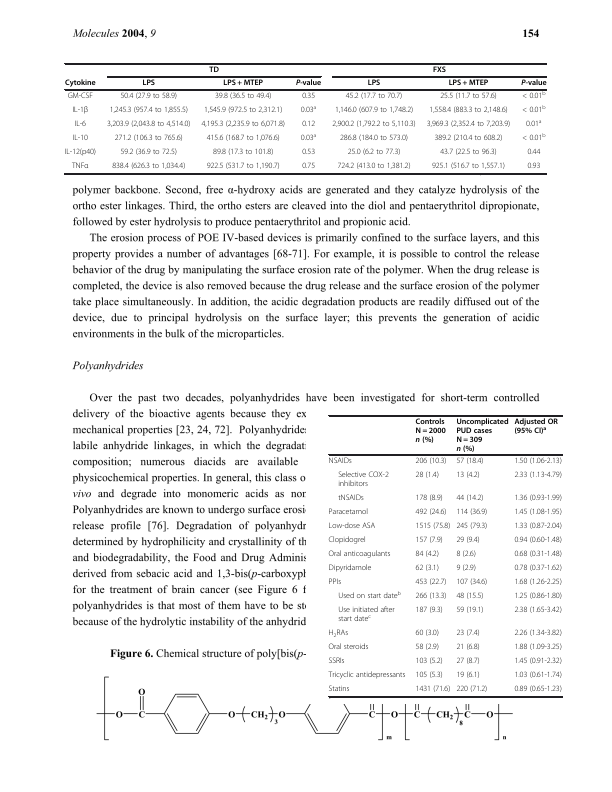borderless: (327, 414, 562, 696), (63, 62, 546, 173)
cell: (455, 418, 509, 454), (337, 606, 396, 625), (337, 471, 390, 490), (414, 418, 447, 445), (200, 120, 286, 130), (331, 120, 417, 130), (106, 120, 191, 130), (426, 120, 511, 130), (513, 418, 559, 436), (109, 106, 189, 116), (203, 106, 283, 116), (334, 106, 414, 116), (428, 106, 508, 116), (337, 590, 402, 602), (328, 671, 406, 681), (206, 134, 281, 144), (111, 162, 186, 172), (206, 162, 281, 172), (336, 162, 411, 172), (431, 162, 506, 172), (114, 134, 184, 144), (339, 134, 409, 144), (433, 134, 503, 144), (328, 550, 391, 560), (212, 148, 274, 158), (119, 92, 178, 102), (439, 92, 498, 102), (119, 148, 178, 158), (439, 148, 498, 158), (214, 92, 272, 102), (345, 92, 403, 102), (347, 148, 401, 158), (513, 457, 563, 467), (513, 471, 563, 481), (513, 494, 563, 504), (513, 508, 563, 518), (513, 522, 563, 532), (513, 536, 563, 546), (513, 550, 563, 560), (513, 564, 563, 574), (513, 578, 563, 588), (513, 592, 563, 602), (513, 606, 563, 616), (513, 629, 563, 639), (513, 643, 563, 653), (513, 657, 563, 667), (513, 671, 563, 681), (513, 685, 563, 695), (328, 522, 376, 532), (328, 564, 372, 574), (222, 79, 264, 89), (448, 79, 489, 89), (328, 508, 369, 518), (328, 643, 369, 653), (328, 536, 367, 546), (414, 522, 451, 532), (414, 685, 451, 695), (64, 148, 97, 158), (414, 457, 447, 467), (414, 508, 447, 518), (455, 508, 488, 518), (455, 522, 488, 532), (414, 578, 447, 588), (455, 578, 488, 588), (414, 592, 447, 602), (455, 685, 488, 695), (64, 79, 96, 89), (414, 494, 444, 504), (414, 536, 444, 546), (414, 606, 444, 616), (414, 657, 444, 667), (414, 671, 444, 681), (455, 457, 484, 467), (455, 494, 484, 504), (455, 592, 484, 602), (455, 606, 484, 616), (337, 494, 365, 504), (521, 91, 546, 102), (521, 105, 546, 116), (521, 133, 546, 144), (295, 79, 322, 89), (520, 79, 547, 89), (67, 92, 94, 102), (414, 471, 440, 481), (414, 550, 440, 560), (414, 564, 440, 574), (414, 629, 440, 639), (414, 643, 440, 653), (328, 457, 353, 467), (455, 471, 480, 481), (455, 536, 480, 546), (455, 629, 480, 639), (455, 643, 480, 653), (455, 657, 480, 667), (455, 671, 480, 681), (455, 550, 477, 560), (455, 564, 477, 574), (327, 629, 349, 639), (328, 685, 350, 695), (300, 105, 317, 116), (525, 119, 542, 130), (300, 133, 317, 144), (71, 106, 89, 116), (71, 162, 89, 172), (72, 134, 89, 144), (328, 657, 345, 667), (141, 79, 156, 89), (301, 92, 316, 102), (301, 120, 316, 130), (301, 148, 316, 158), (526, 148, 541, 158), (301, 162, 316, 172), (526, 162, 541, 172), (367, 79, 381, 89), (73, 120, 87, 130), (328, 578, 342, 588), (432, 66, 447, 75), (208, 66, 220, 75)
